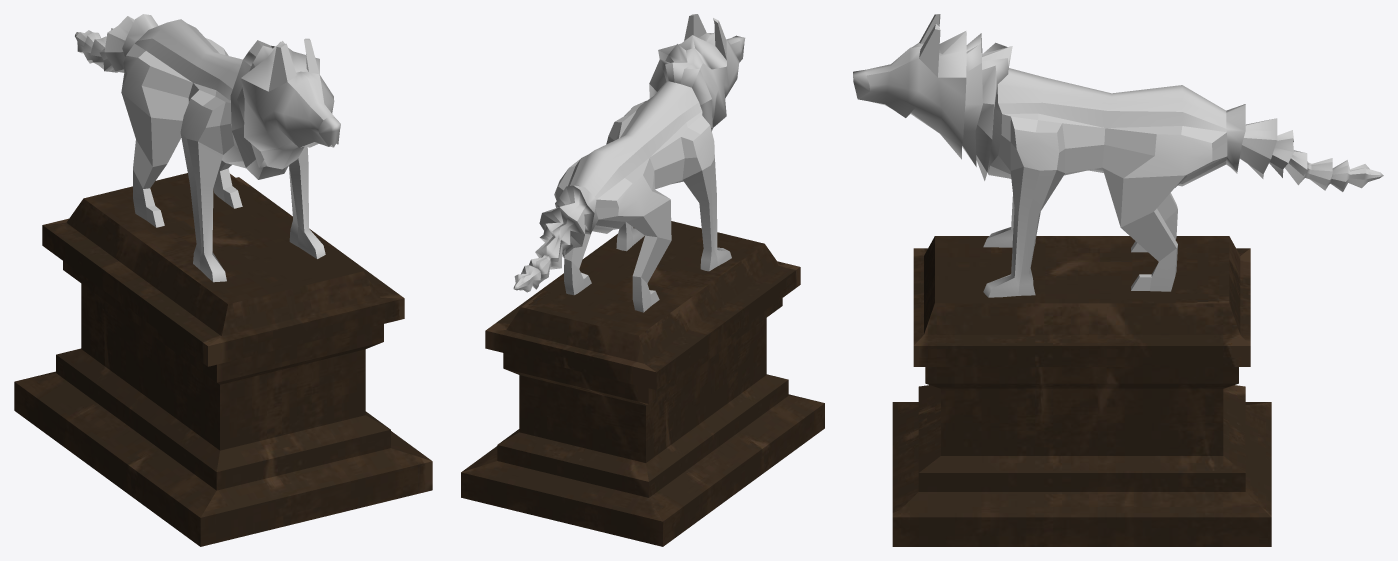
File: WolfStatue.fbx
3 views of the same model, side by side, from view 1: azimuth 30°, elevation 25°; view 2: azimuth 150°, elevation 25°; view 3: azimuth 270°, elevation 25° (orthographic). The views are drawn at different scales.
Visible parts, largest first — view 1: Wolf_Statue; view 2: Wolf_Statue; view 3: Wolf_Statue.
Part boxes in pixels (<box>): Wolf_Statue: <box>14,14,432,546</box>; Wolf_Statue: <box>461,14,824,546</box>; Wolf_Statue: <box>853,14,1383,546</box>.
Size of the model in its own units: 0.1989 by 0.378 by 0.387.
